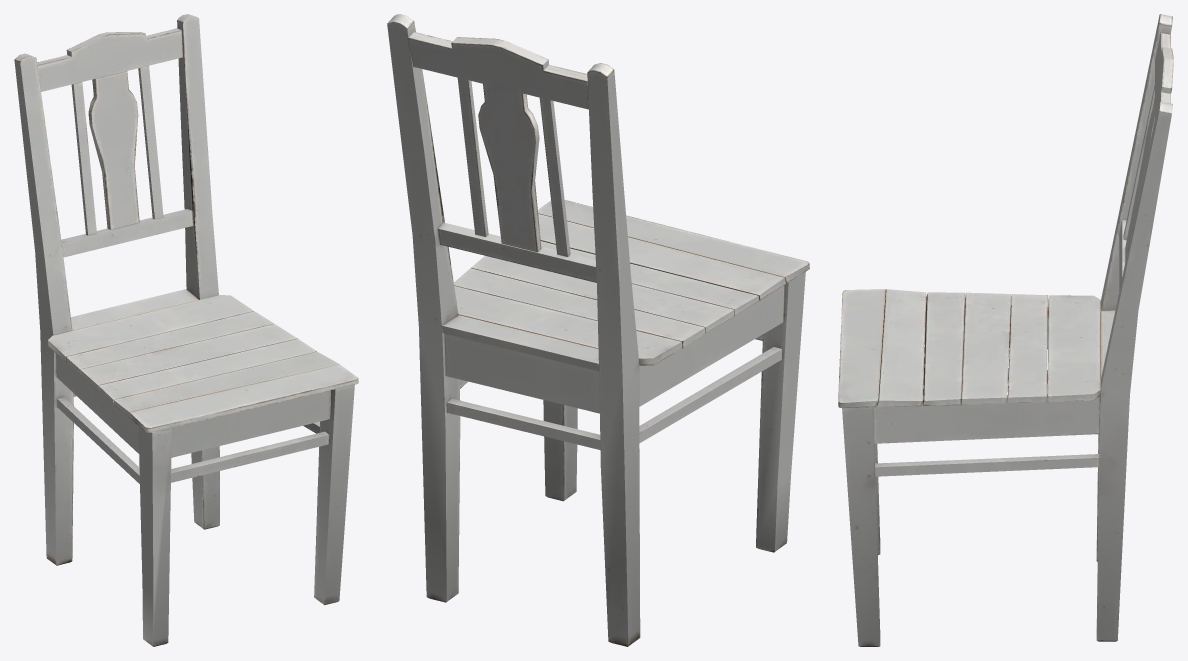
Rendered from chair.glb.
The picture shows the model from 3 angles, left to right: view 1: azimuth 30°, elevation 25°; view 2: azimuth 150°, elevation 25°; view 3: azimuth 270°, elevation 25°; orthographic projection. The views are drawn at different scales.
Visible parts, largest first — view 1: painted_wooden_chair_01; view 2: painted_wooden_chair_01; view 3: painted_wooden_chair_01.
Part boxes in pixels (<box>): painted_wooden_chair_01: <box>14,14,358,646</box>; painted_wooden_chair_01: <box>387,14,809,646</box>; painted_wooden_chair_01: <box>838,14,1173,646</box>.
Size of the model in its own units: 0.4298 by 0.9558 by 0.5391.
Materials: 1 (1 with a texture image).
